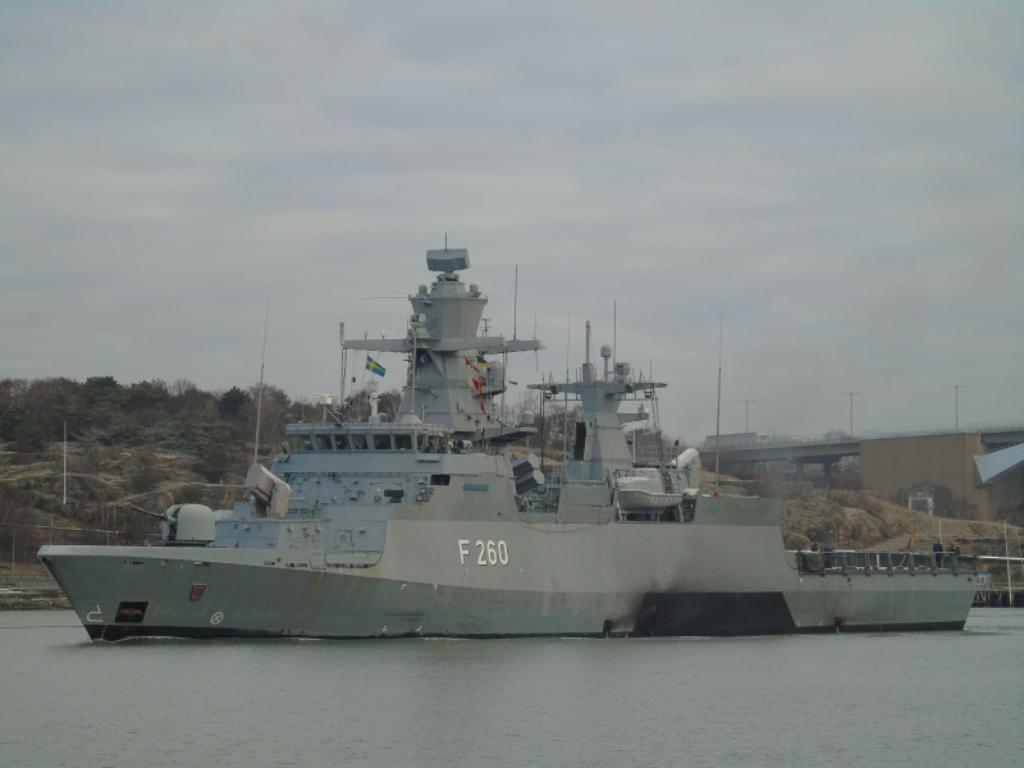Warship: (38, 228, 980, 638)
